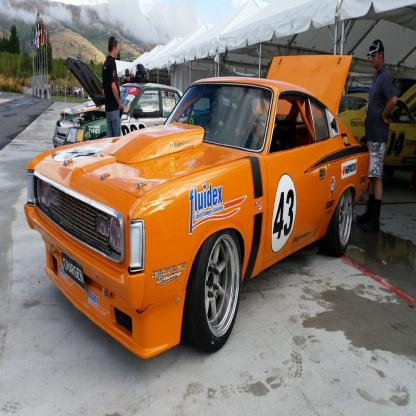Car: (24, 53, 374, 368), (53, 52, 206, 147), (299, 85, 416, 185), (59, 79, 157, 120)
